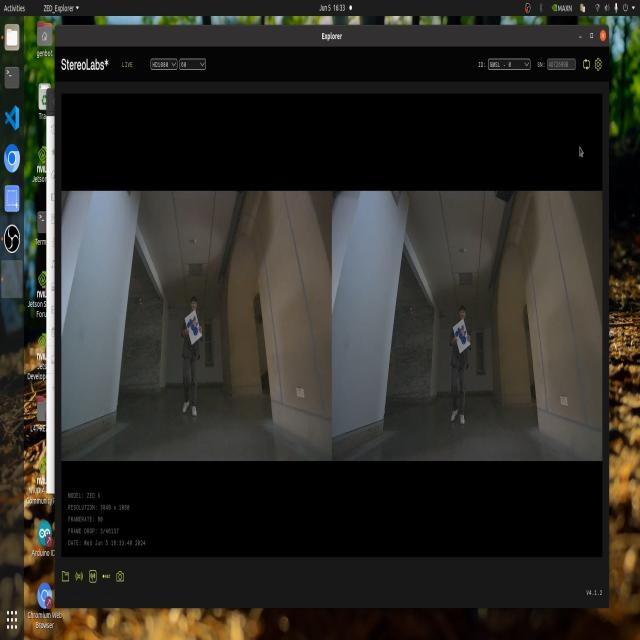blue: (189, 314, 203, 344), (456, 323, 466, 346)
